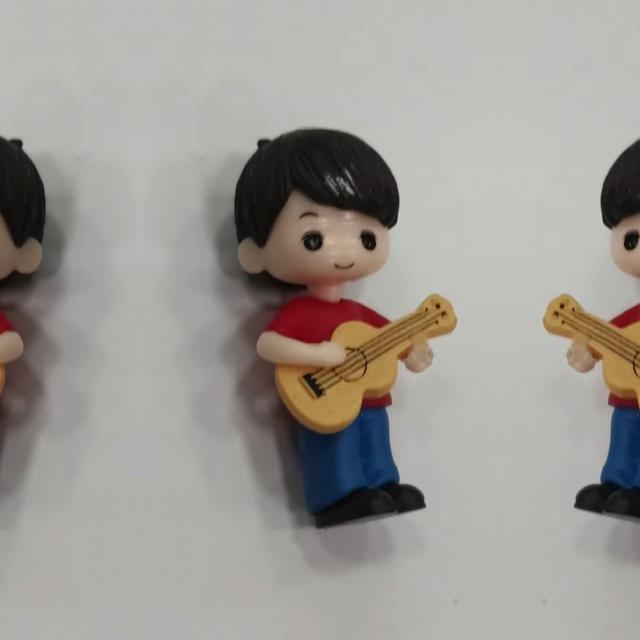man cloth: (268, 294, 426, 408), (574, 294, 640, 407), (0, 294, 12, 407)
man head: (217, 122, 406, 282), (0, 122, 63, 281), (594, 122, 640, 281)
trousers: (289, 408, 425, 524), (575, 408, 640, 524)
